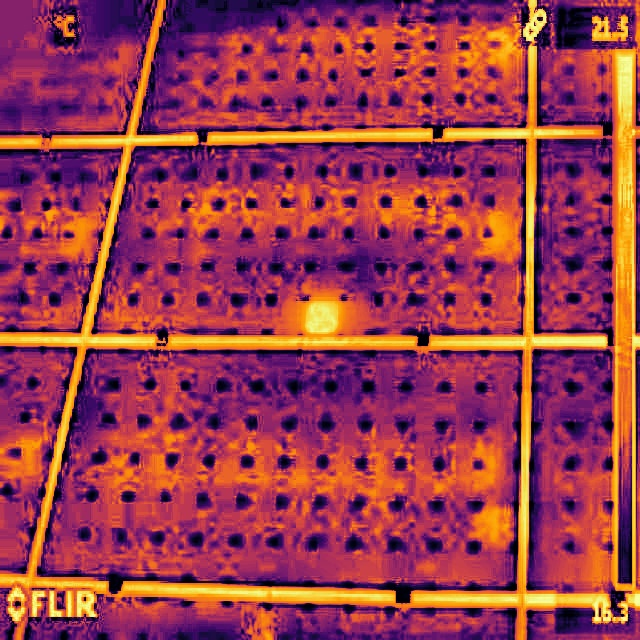Hotspot: (303, 297, 343, 335)
Moderate-High: (303, 297, 343, 335)
